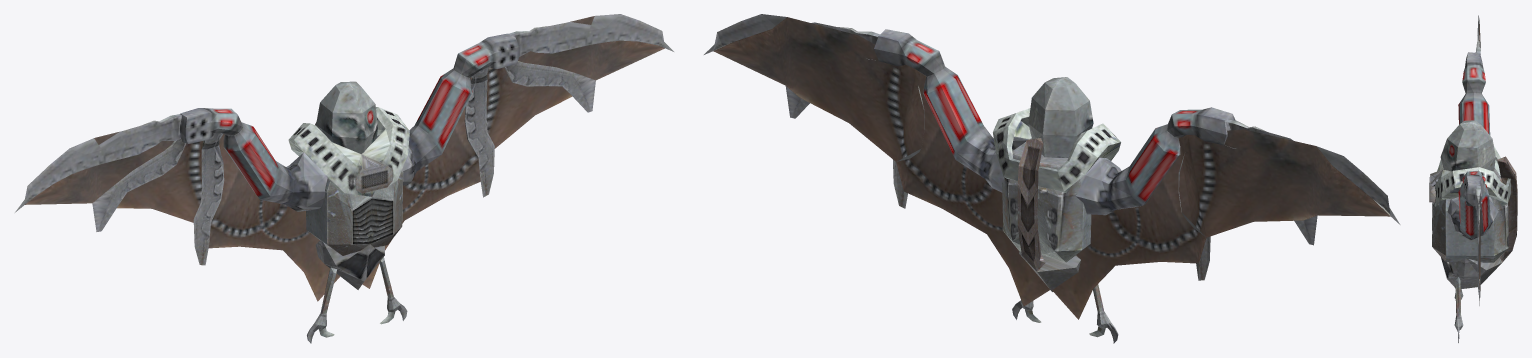
File: Batzoid_model.fbx
The picture shows the model from 3 angles, left to right: view 1: azimuth 30°, elevation 25°; view 2: azimuth 150°, elevation 25°; view 3: azimuth 270°, elevation 25°; orthographic projection. The views are drawn at different scales.
Parts seen in each view (by area): view 1: BatZoidtoAnimate:polymsh2; view 2: BatZoidtoAnimate:polymsh2; view 3: BatZoidtoAnimate:polymsh2.
Part boxes in pixels (x1,y1,x2,y2): BatZoidtoAnimate:polymsh2: (15,14,673,343); BatZoidtoAnimate:polymsh2: (704,14,1400,343); BatZoidtoAnimate:polymsh2: (1429,15,1517,342).
Bounding box in the file's own units: 11.57 × 4.21 × 1.63.
